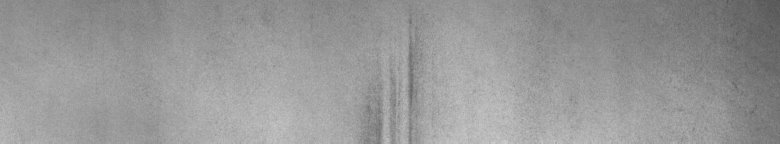ka: (364, 19, 423, 136)
